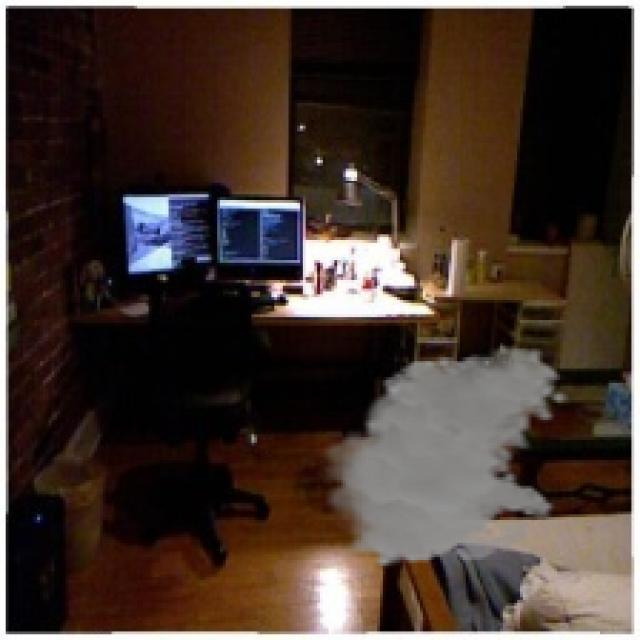Smoke: (314, 346, 569, 568)
